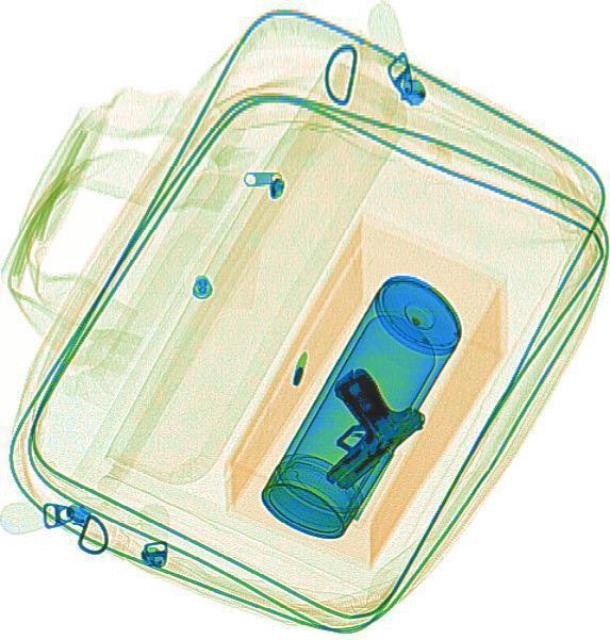Gun: (279, 353, 427, 492)
